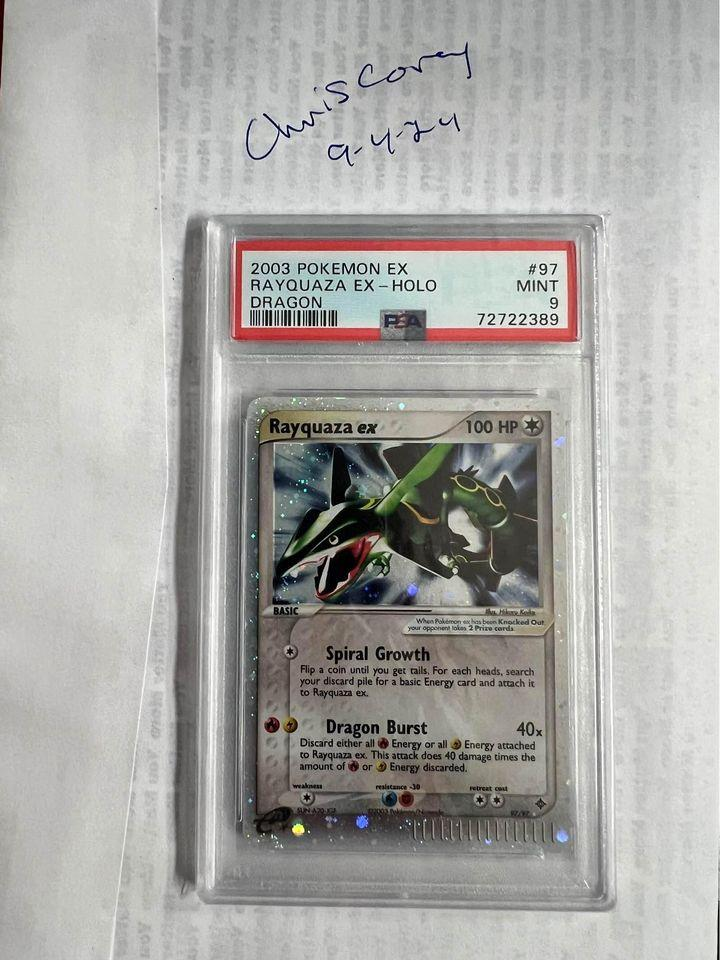card: (239, 393, 574, 855)
